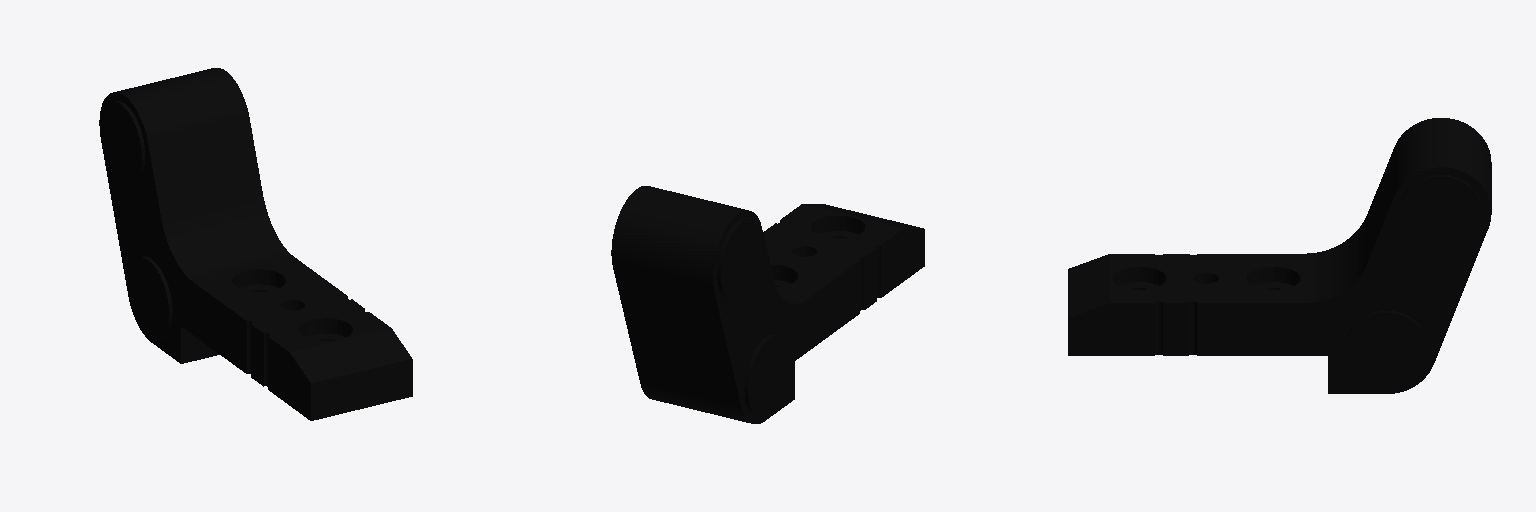
Rendered from robotiq_arg2f_85_inner_finger.obj.
3 views of the same model, side by side, from view 1: azimuth 30°, elevation 25°; view 2: azimuth 150°, elevation 25°; view 3: azimuth 270°, elevation 25° (orthographic).
Visible parts, largest first — view 1: robotiq_arg2f_85_inner_finger; view 2: robotiq_arg2f_85_inner_finger; view 3: robotiq_arg2f_85_inner_finger.
Part boxes in pixels (x1,y1,x2,y2): robotiq_arg2f_85_inner_finger: (99,68,412,420); robotiq_arg2f_85_inner_finger: (611,186,924,423); robotiq_arg2f_85_inner_finger: (1068,118,1491,393).
Size of the model in its own units: 15 by 29.9 by 50.51.